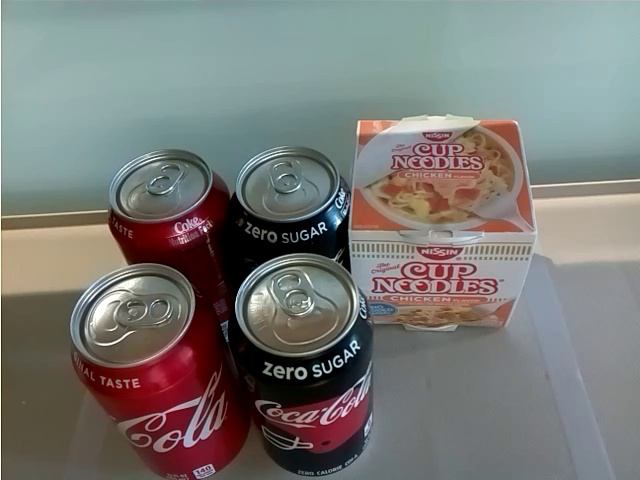cocacola: (67, 262, 249, 480), (104, 148, 232, 353)
cocacola-zero: (234, 251, 375, 480), (233, 143, 349, 251)
noodles: (348, 112, 538, 337)
